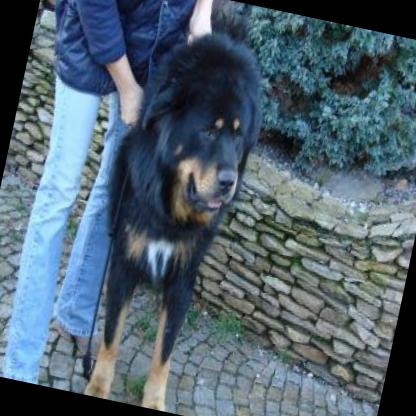Tibetan_mastiff: (61, 11, 278, 415)
